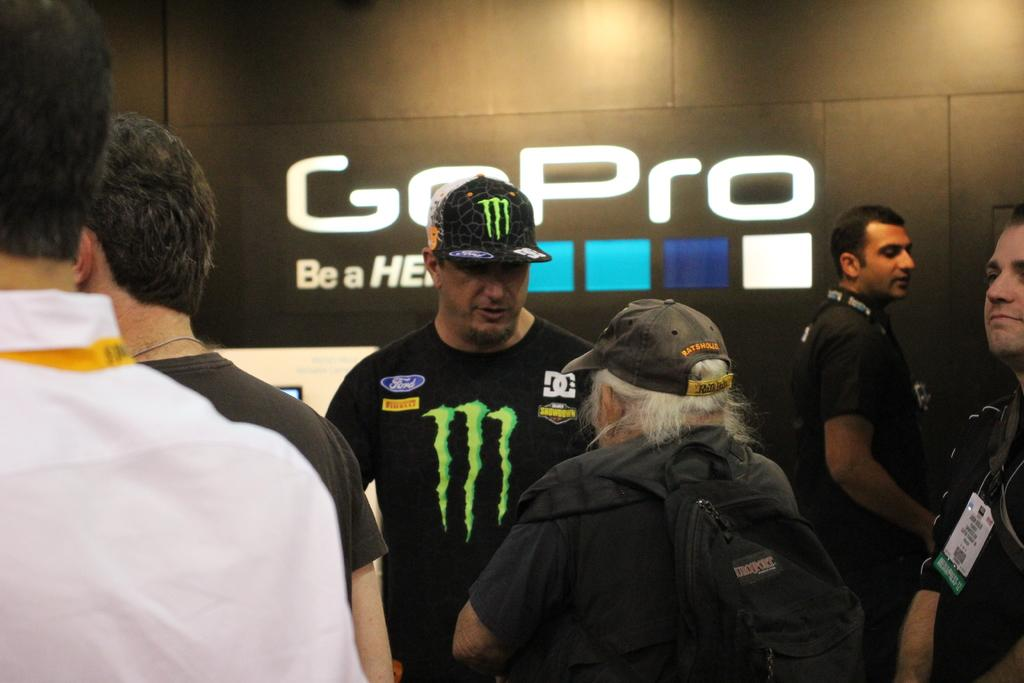Hat: (566, 306, 759, 408)
